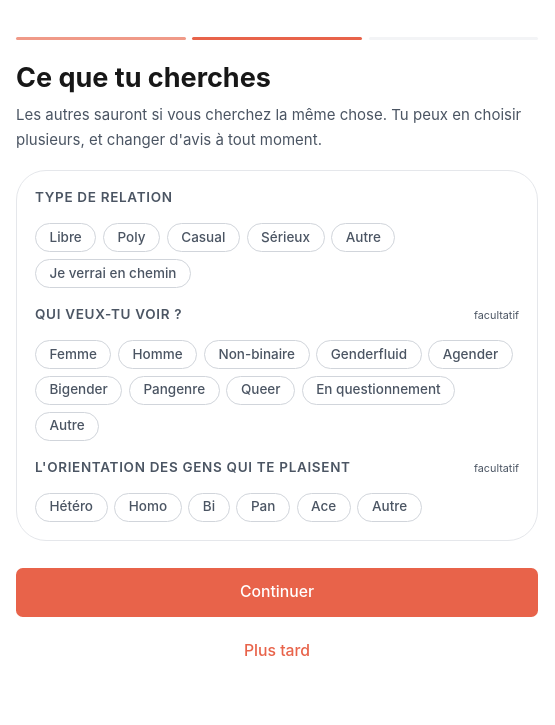
<StepSeeking /> — réciprocité (#519) › pose la question au clic du critère sans genre déclaré, et bloque Continuer
The image size is (555, 725).
Click the button "Femme" at (73, 355), box [35,340,111,369]
(page scrolled)
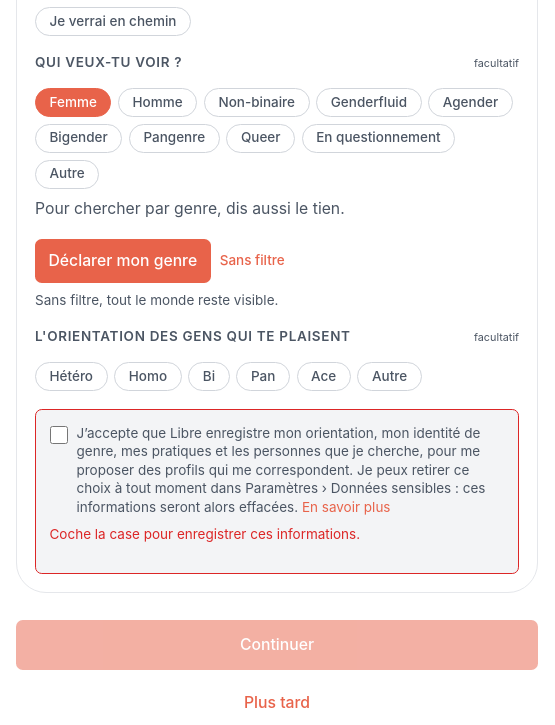
Result: the text "Pour chercher par genre, dis aussi le tien." is shown at [35,199,345,218]
Result: the button "Continuer" is disabled at [16,620,538,670]
